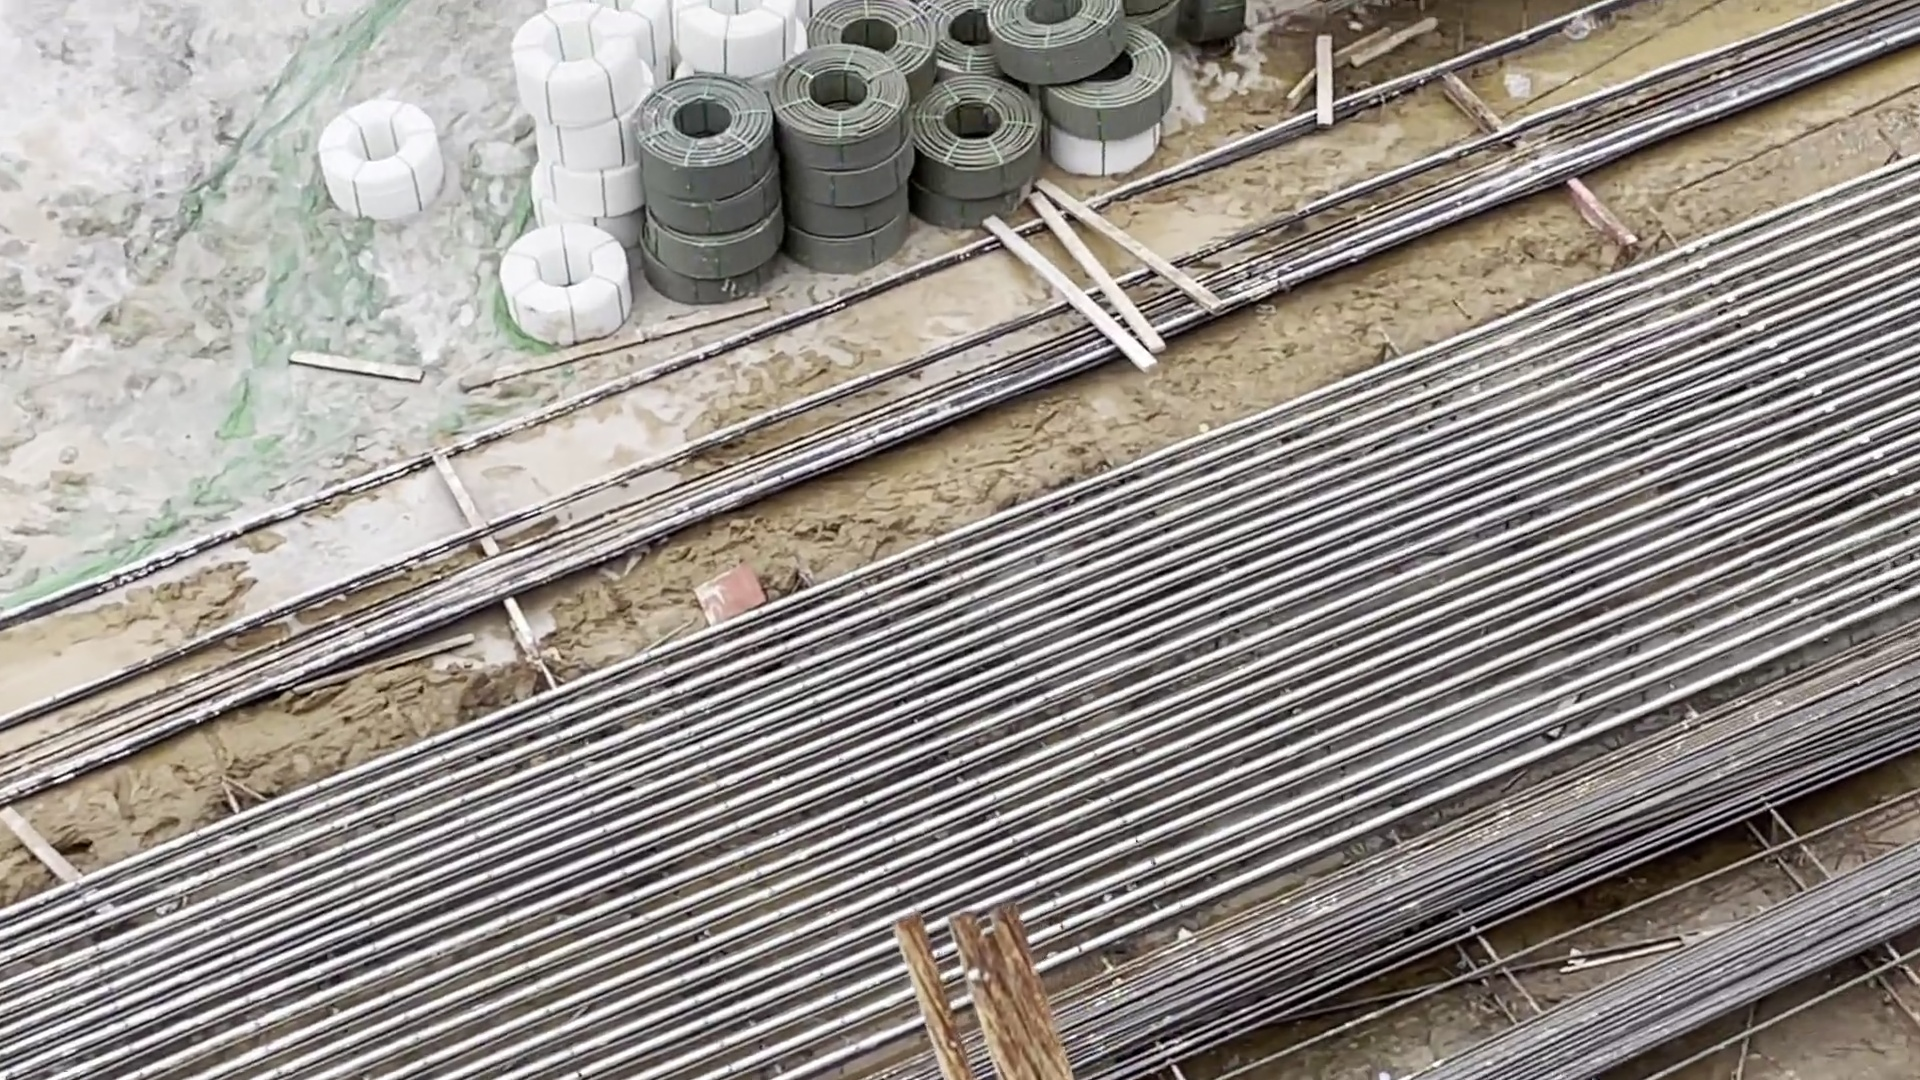rebar: (1046, 659, 1905, 1079)
